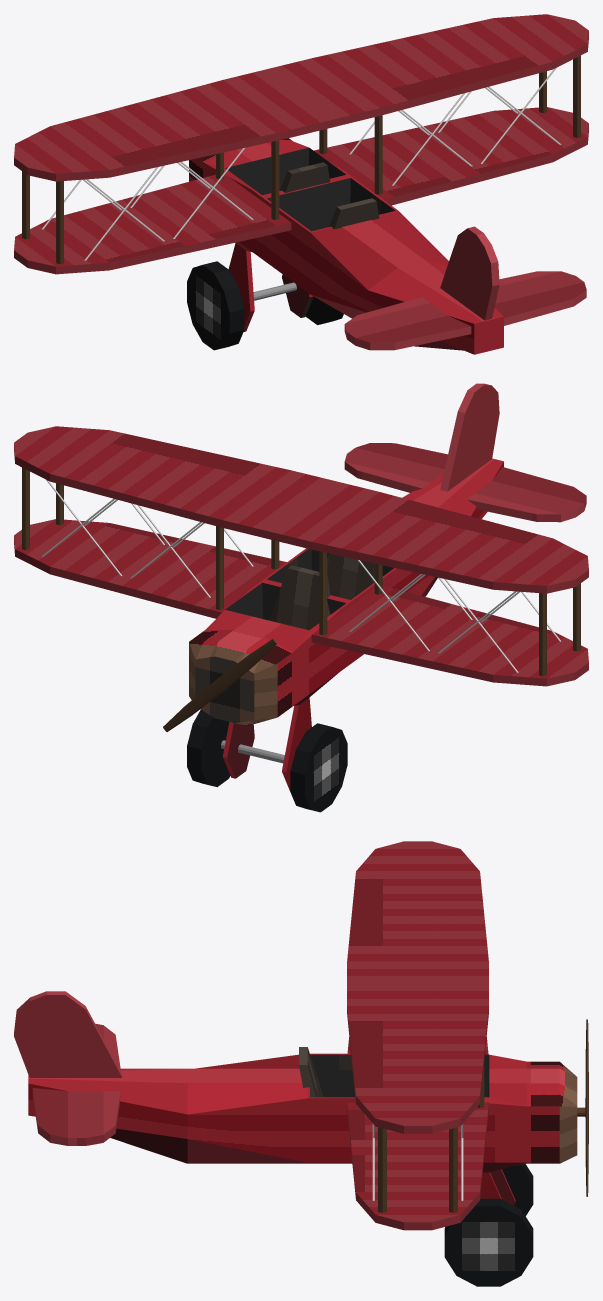
Rendered from biplane.gltf.
3 views of the same model, one above another, from view 1: azimuth 30°, elevation 25°; view 2: azimuth 150°, elevation 25°; view 3: azimuth 270°, elevation 25° (orthographic). The views are drawn at different scales.
Parts seen in each view (by area): view 1: cuboid (×9), cylinder (×7); view 2: cuboid (×9), cylinder (×6), sphere; view 3: cuboid (×7), cylinder (×4), sphere.
Boxes of the visible parts, bbox=[...] form: cuboid (×9): bbox=[14, 14, 588, 354]; cylinder (×7): bbox=[22, 55, 580, 350]; cuboid (×9): bbox=[14, 383, 588, 791]; cylinder (×6): bbox=[22, 467, 546, 812]; sphere: bbox=[163, 639, 276, 731]; cuboid (×7): bbox=[14, 841, 577, 1230]; cylinder (×4): bbox=[378, 1127, 533, 1286]; sphere: bbox=[585, 1019, 588, 1196].
Bounding box in the file's own units: 2.38 × 1.06 × 2.03.
Materials: 1 (1 with a texture image).
